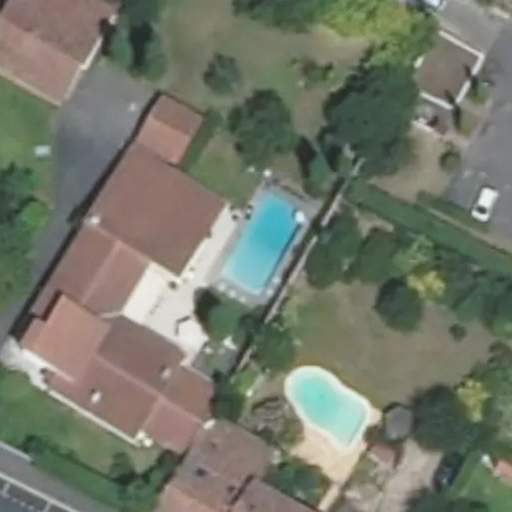pool: (222, 195, 306, 297), (283, 363, 370, 449)
